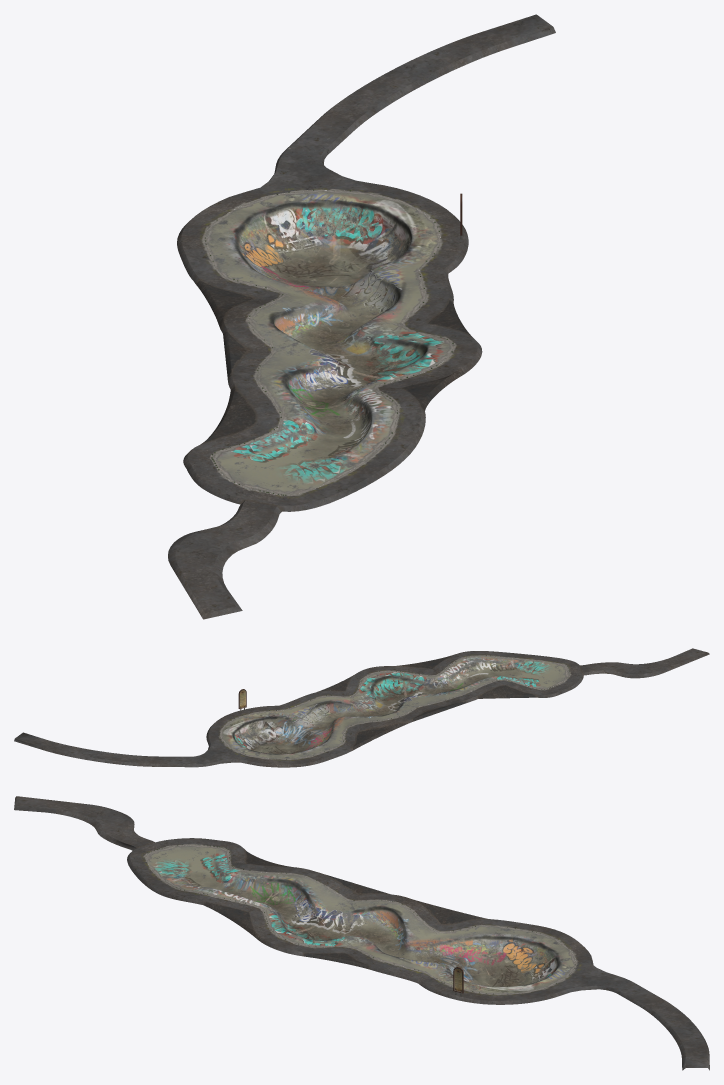
Rendered from Seylynn.glb.
3 views of the same model, one above another, from view 1: azimuth 30°, elevation 25°; view 2: azimuth 150°, elevation 25°; view 3: azimuth 270°, elevation 25° (orthographic). The views are drawn at different scales.
Parts seen in each view (by area): view 1: Object_4, Object_6; view 2: Object_4, Object_6; view 3: Object_4, Object_6.
Boxes of the visible parts, x1=… form: Object_4: x1=205, y1=190, x2=453, y2=495; Object_6: x1=168, y1=14, x2=555, y2=619; Object_4: x1=220, y1=655, x2=569, y2=759; Object_6: x1=14, y1=648, x2=709, y2=767; Object_4: x1=145, y1=844, x2=575, y2=994; Object_6: x1=14, y1=796, x2=709, y2=1070.
Size of the model in its own units: 42.87 by 3.62 by 45.76.
Materials: 5 (5 with a texture image).
